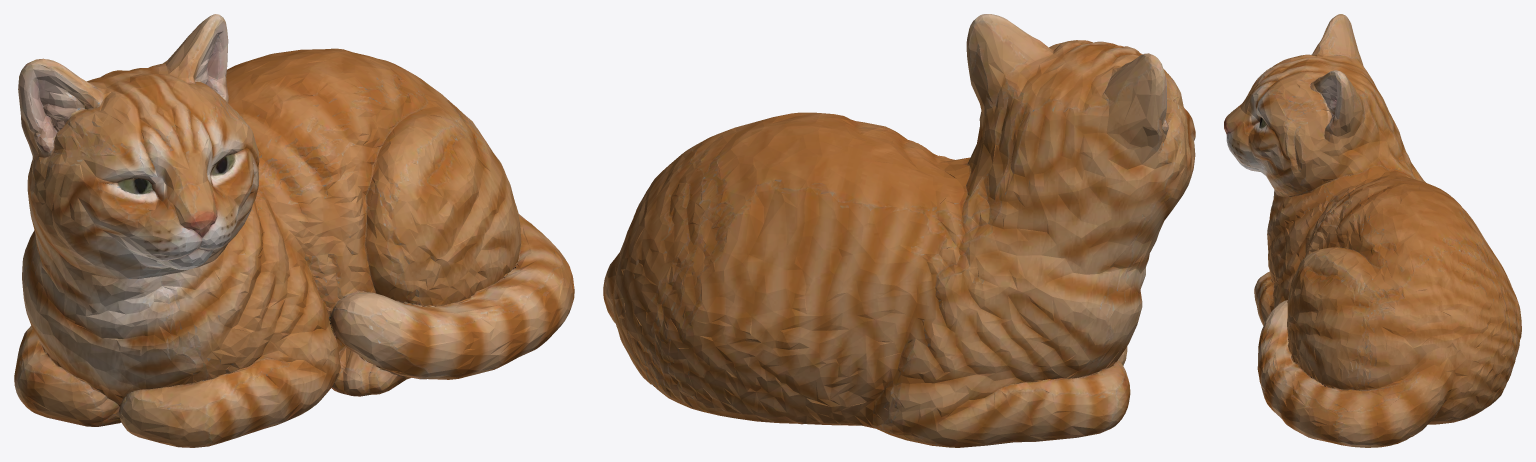
File: palley.glb
3 views of the same model, side by side, from view 1: azimuth 30°, elevation 25°; view 2: azimuth 150°, elevation 25°; view 3: azimuth 270°, elevation 25° (orthographic). The views are drawn at different scales.
Visible parts, largest first — view 1: PAL-PLY1011-01-P-CLP-KAT; view 2: PAL-PLY1011-01-P-CLP-KAT; view 3: PAL-PLY1011-01-P-CLP-KAT.
Part boxes in pixels (x1,y1,x2,y2): PAL-PLY1011-01-P-CLP-KAT: (14, 14, 574, 447); PAL-PLY1011-01-P-CLP-KAT: (603, 14, 1195, 447); PAL-PLY1011-01-P-CLP-KAT: (1224, 14, 1521, 447).
Size of the model in its own units: 0.04 by 0.026 by 0.0271.
1 material, 1 textured.
